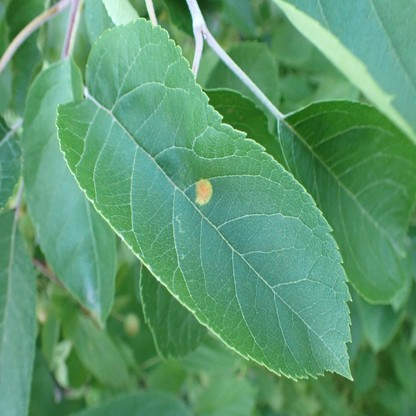rust: (194, 179, 213, 203)
